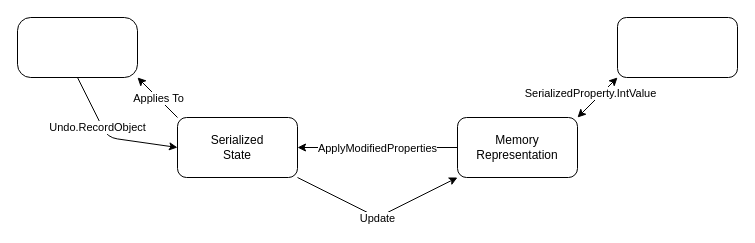
Image size: 755x243. Some labels were removed from this diagram. Each missing label, with the centre of its shape:
"Inspector" goes at [677,47].
"Object Instances" goes at [77,47].
